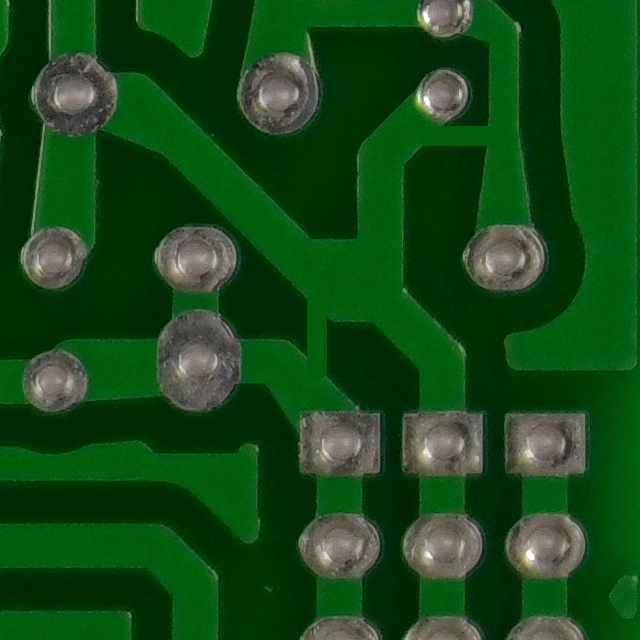short: (275, 244, 366, 396), (384, 80, 516, 180)
